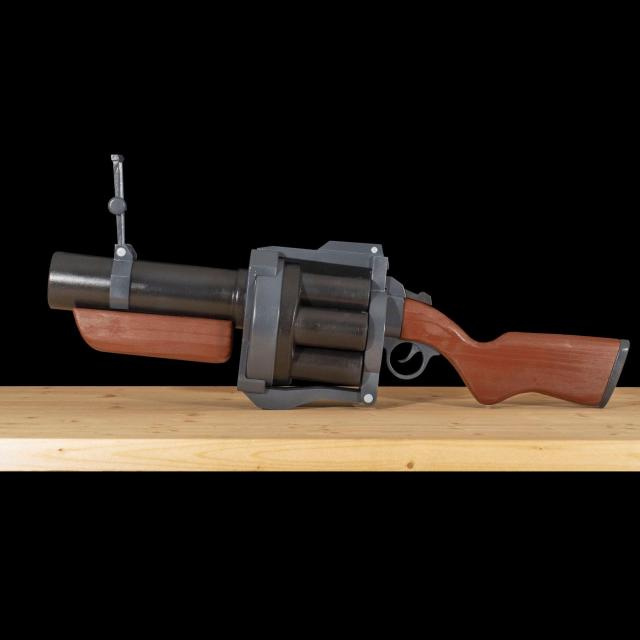weapon: (49, 139, 636, 430)
